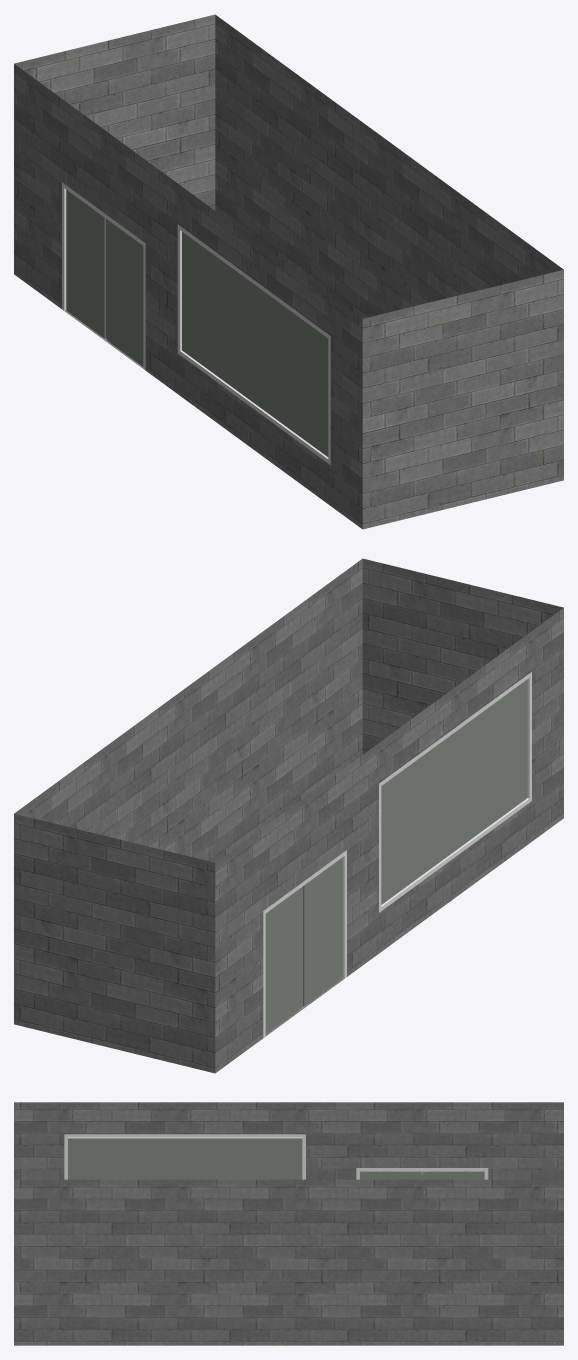
The model's file is Planta Baja.fbx.
The picture shows the model from 3 angles, top to bottom: view 1: azimuth 30°, elevation 25°; view 2: azimuth 150°, elevation 25°; view 3: azimuth 270°, elevation 25°; orthographic projection. The views are drawn at different scales.
Visible parts, largest first — view 1: building_031.001; view 2: building_031.001; view 3: building_031.001.
Part boxes in pixels (x1,y1,x2,y2): building_031.001: (14, 14, 563, 529); building_031.001: (14, 558, 563, 1073); building_031.001: (14, 1102, 563, 1345).
Bounding box in the file's own units: 500 × 500 × 1500.
2 materials, 2 textured.
